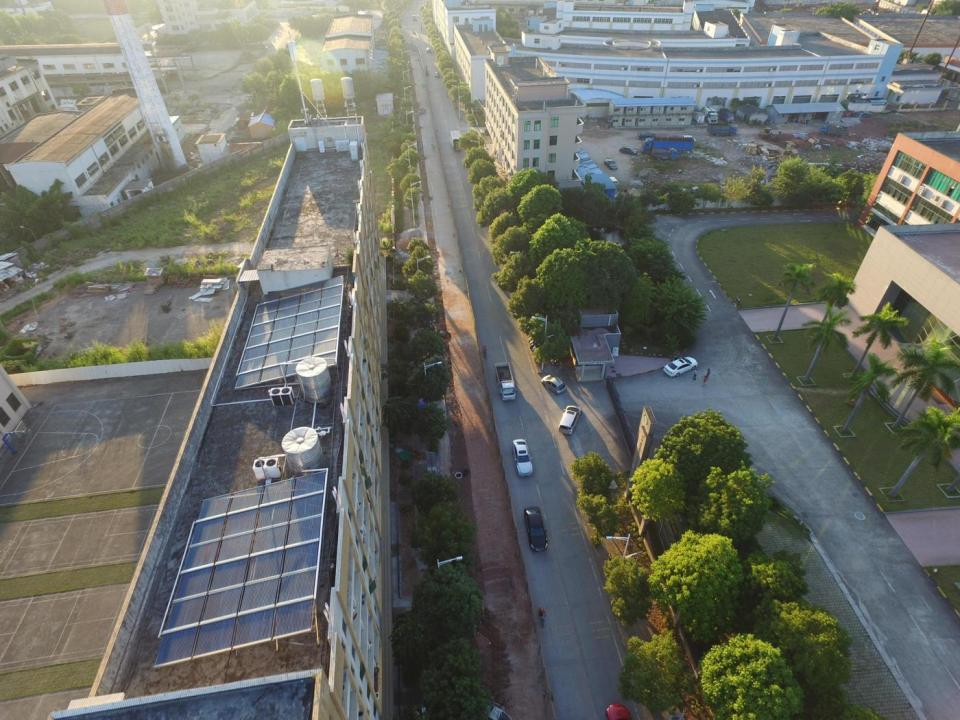car: (523, 506, 549, 553), (511, 438, 533, 479), (662, 356, 698, 378), (558, 404, 582, 435), (540, 374, 566, 396), (604, 158, 618, 171), (638, 132, 657, 140), (619, 146, 637, 154), (435, 70, 440, 78)
truck: (640, 135, 695, 153), (494, 361, 517, 401), (605, 702, 633, 720), (707, 123, 736, 137), (818, 124, 848, 137), (653, 147, 679, 160), (448, 130, 463, 152), (700, 106, 718, 124), (688, 108, 705, 124), (720, 107, 734, 123)
van: (683, 135, 695, 145)
